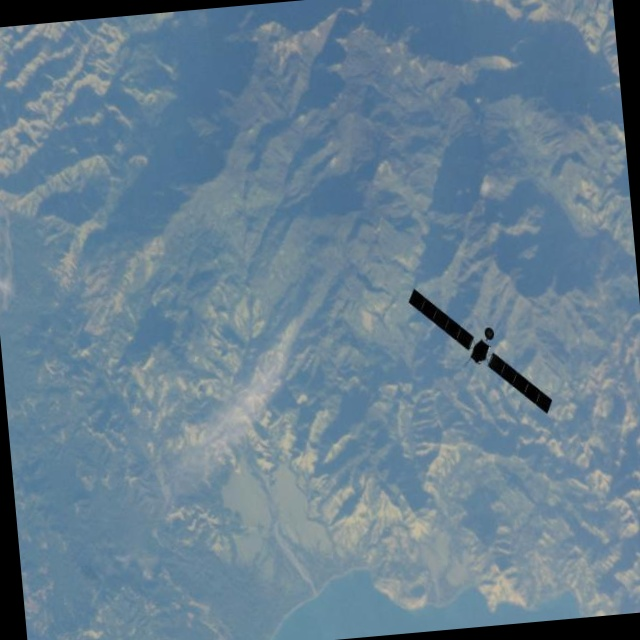satellite: (406, 273, 567, 432)
